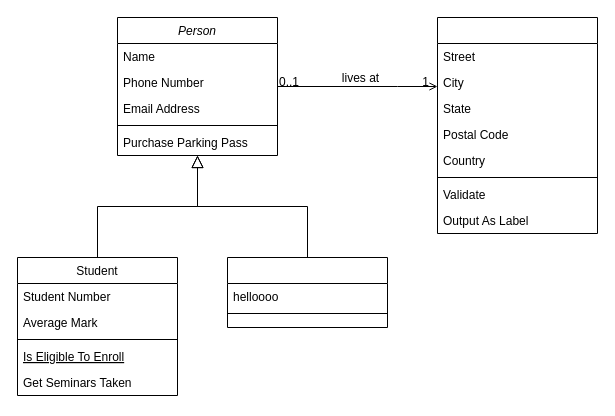
Image size: 615x416. Some labels were removed from this diagram. Each missing label, with the box of its shape:
Address: (436, 16, 598, 234)
Professor: (226, 256, 388, 328)
